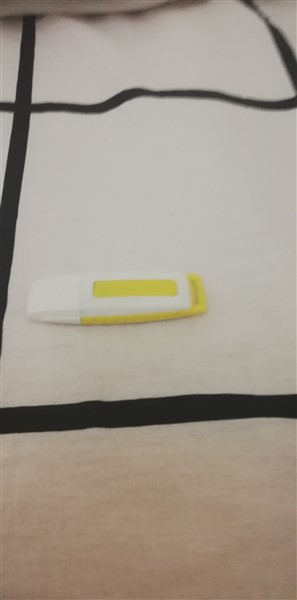flash disk: (16, 265, 209, 335)
